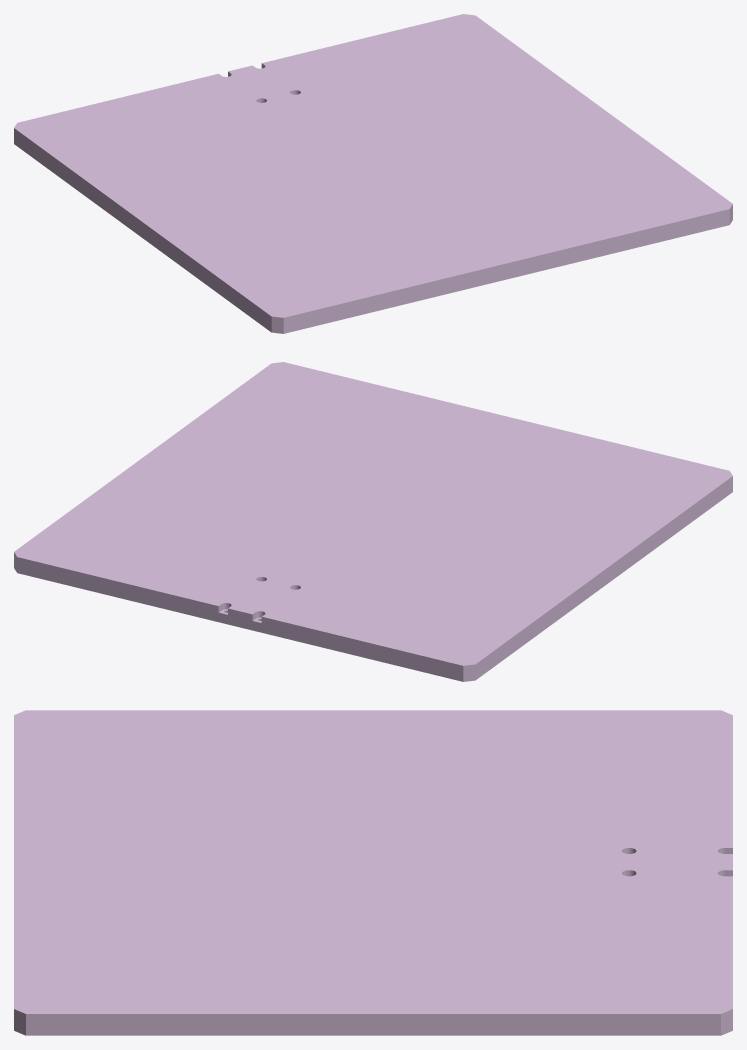
Rendered from Plate - FRM_BASE_10T.obj.
The picture shows the model from 3 angles, top to bottom: view 1: azimuth 30°, elevation 25°; view 2: azimuth 150°, elevation 25°; view 3: azimuth 270°, elevation 25°; orthographic projection. The views are drawn at different scales.
Visible parts, largest first — view 1: mesh21, mesh8, mesh6; view 2: mesh21, mesh20, mesh6; view 3: mesh21, mesh10.
Boxes of the visible parts, box(x1,y1,x2,y2) form: mesh21: box(14, 14, 732, 317); mesh8: box(283, 209, 729, 333); mesh6: box(14, 128, 271, 332); mesh21: box(14, 362, 732, 665); mesh20: box(17, 557, 463, 681); mesh6: box(475, 476, 732, 680); mesh21: box(14, 710, 732, 1013); mesh10: box(26, 1014, 720, 1035).
Bounding box in the file's own units: 0.3 × 0.01 × 0.3.
